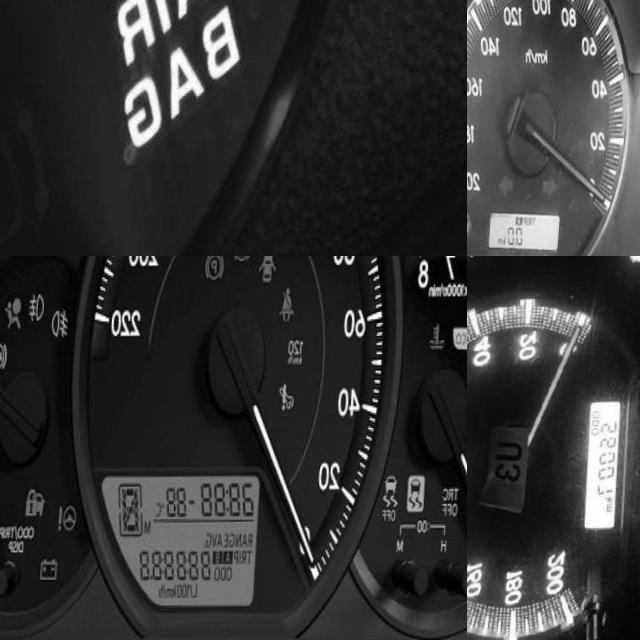Electronic Power Steering: (64, 506, 83, 532)
High Engine Coolant Temperature: (432, 326, 450, 352)
Seat Belt: (283, 289, 298, 324), (631, 256, 640, 269)
